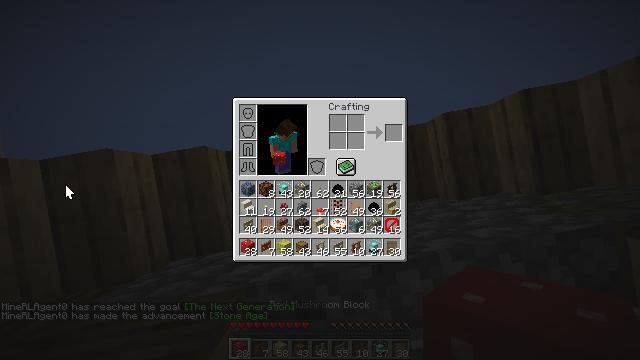cursor: (65, 184, 75, 200)
